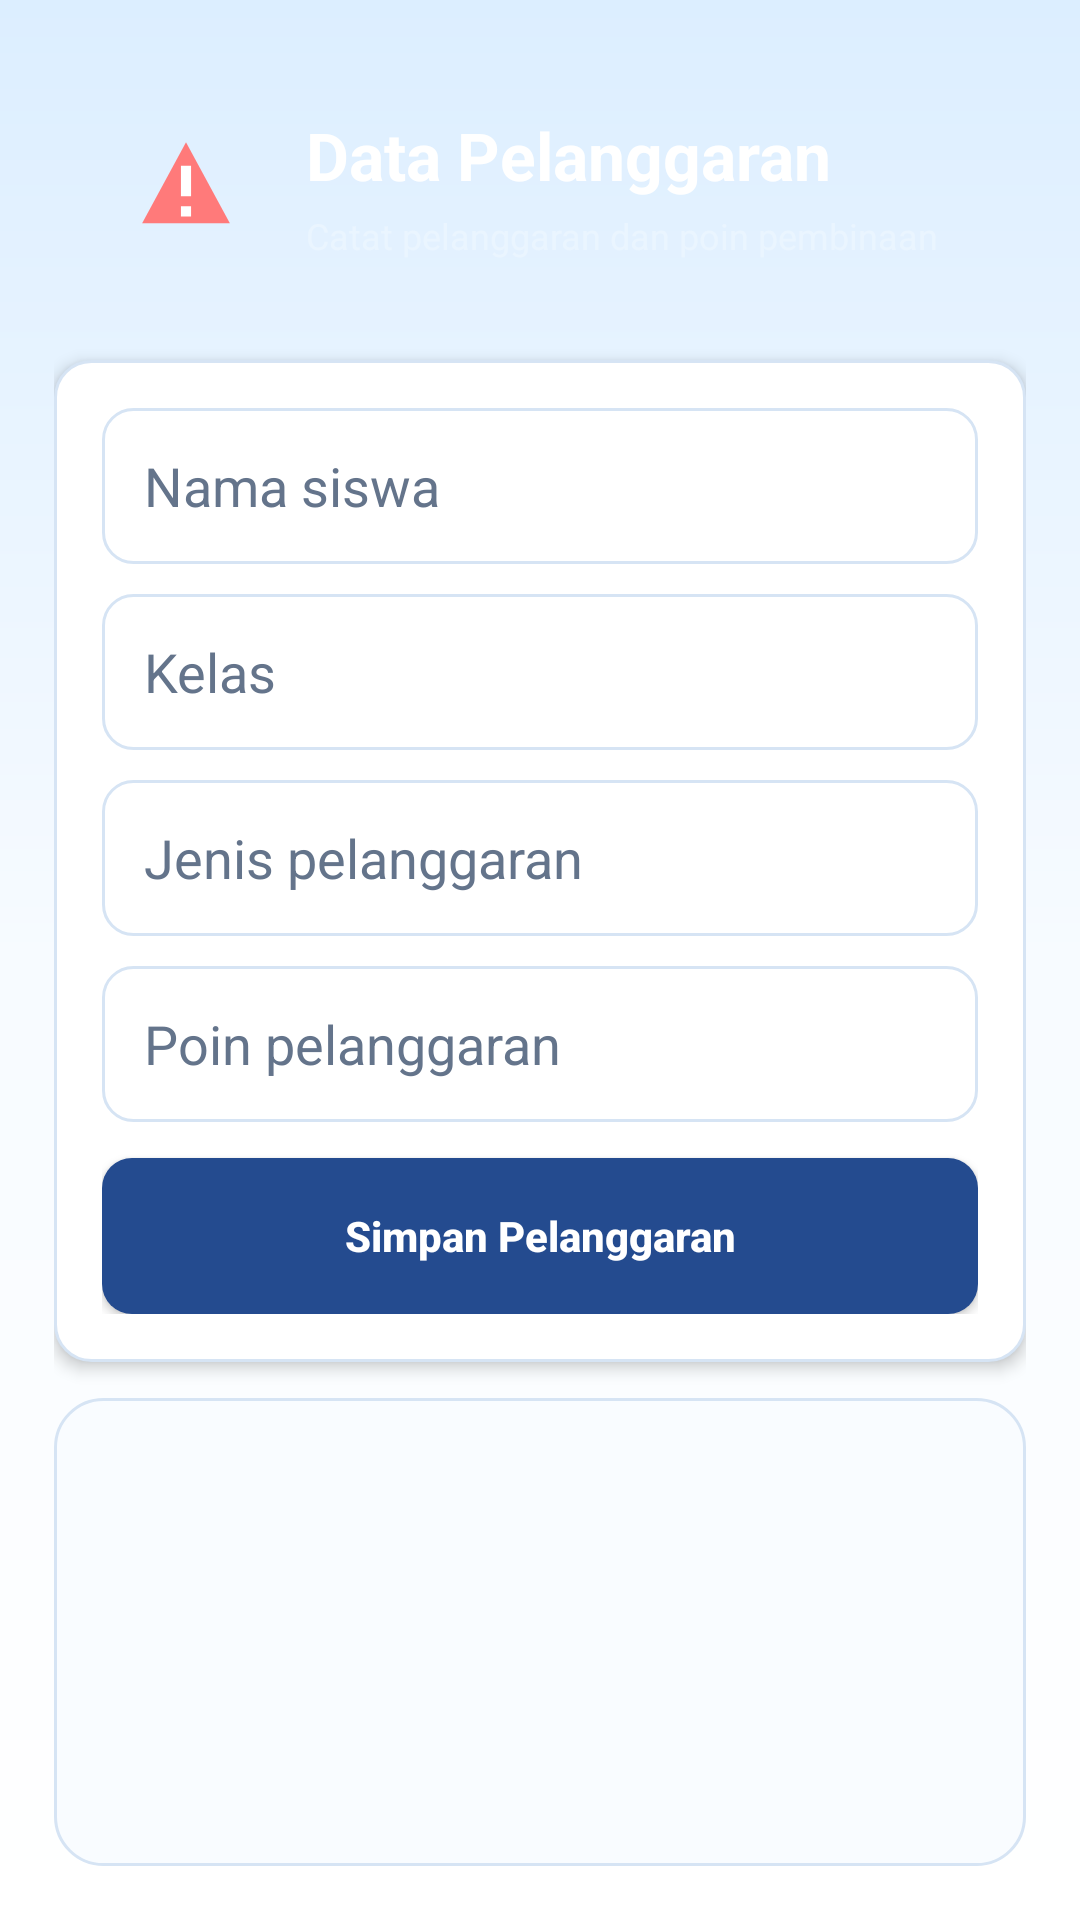

Icons on this 1080px×1920px Android screen, each with its box as (x1, y1, x2, y2):
Ikon pelanggaran: (142, 143, 230, 224)
